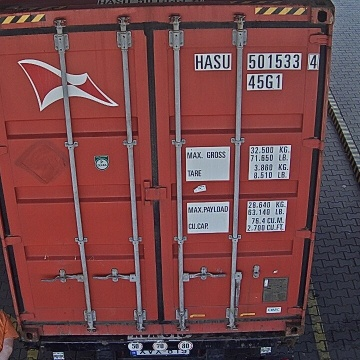serial_id: (195, 54, 318, 69)
